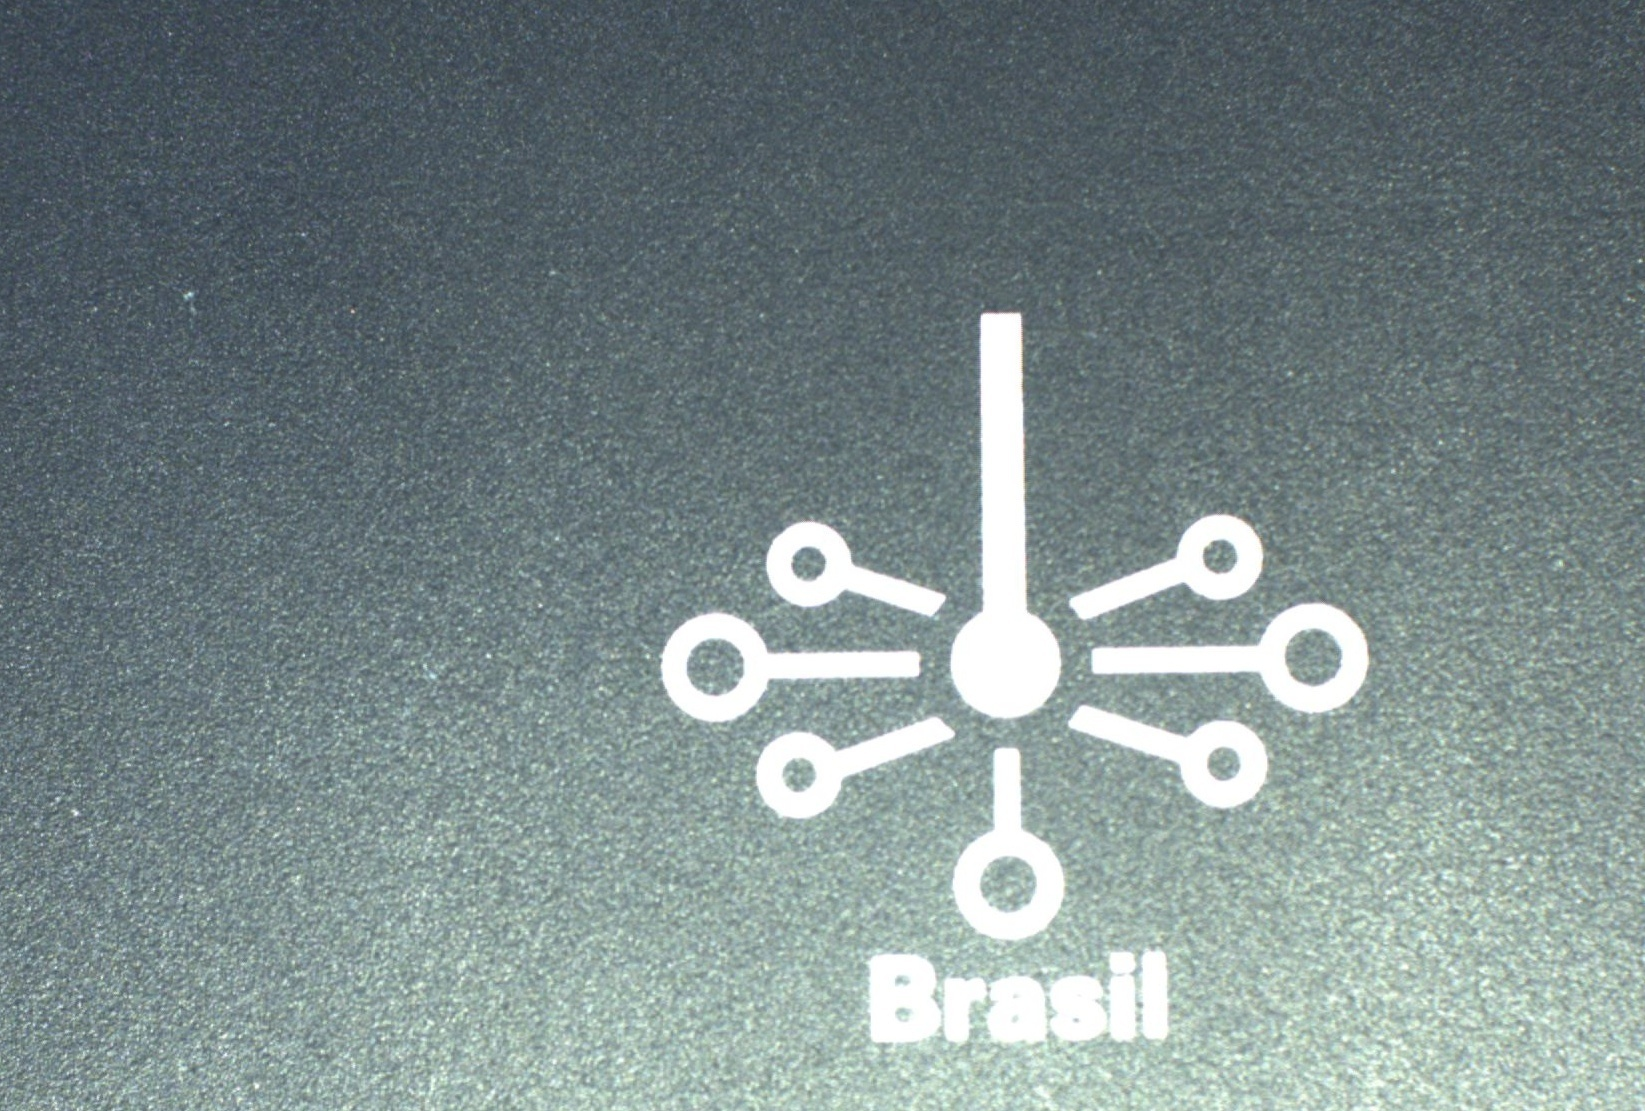BO_Brsail: (646, 306, 1385, 1034)
